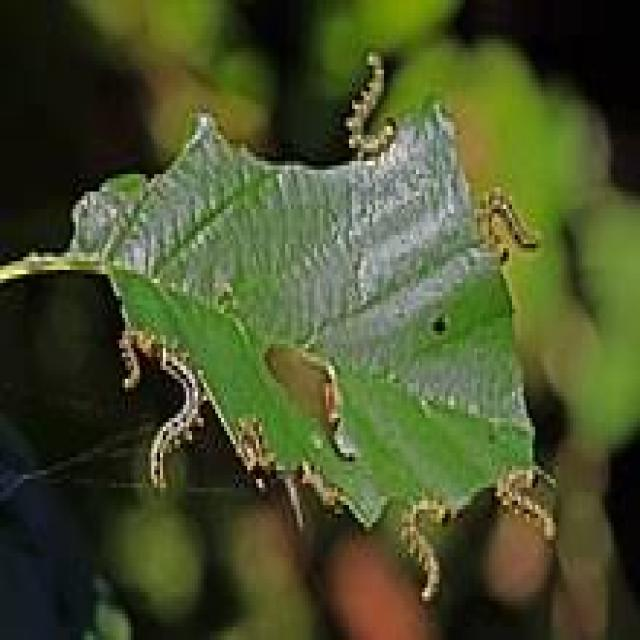Saw Fly: (148, 342, 208, 498), (397, 491, 454, 606), (346, 46, 400, 162), (495, 460, 561, 550), (476, 178, 544, 262), (322, 358, 364, 464), (294, 454, 348, 517), (233, 414, 274, 496), (119, 325, 155, 390), (286, 480, 308, 532)
